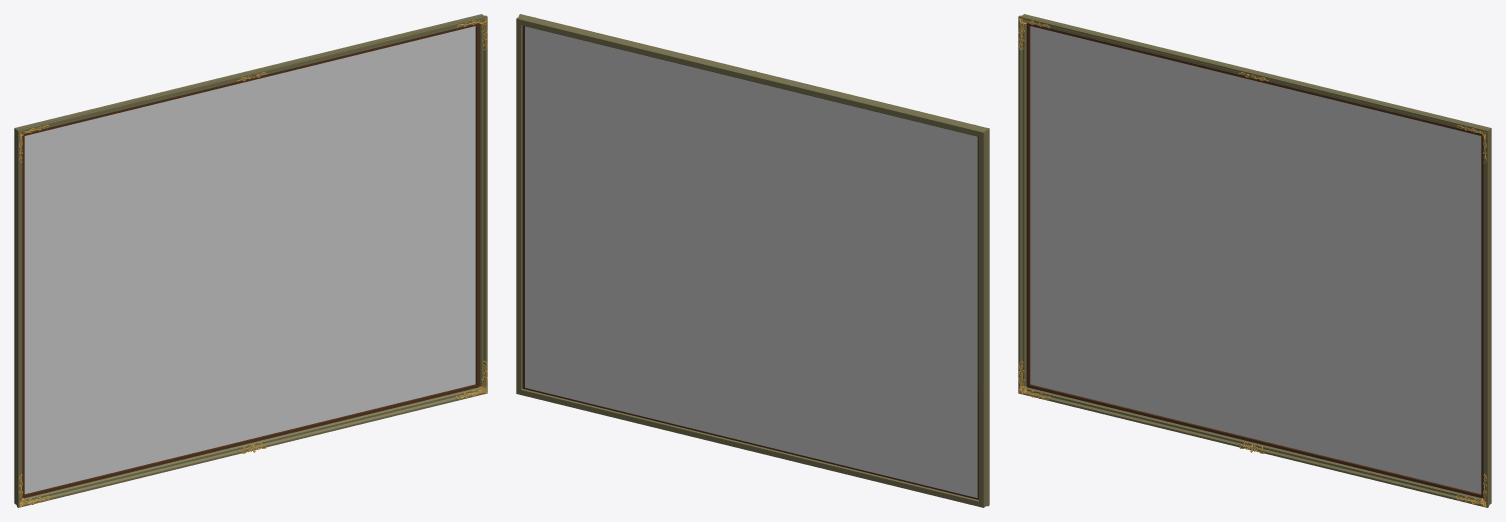
The model's file is frame001_lg.glb.
3 views of the same model, side by side, from view 1: azimuth 30°, elevation 25°; view 2: azimuth 150°, elevation 25°; view 3: azimuth 330°, elevation 25° (orthographic).
Visible parts, largest first — view 1: canvas_平面, frame_Cube.003, frame_inner_Cube.001, moyou001_Lines.001; view 2: canvas_平面, frame_Cube.003, frame_inner_Cube.001; view 3: canvas_平面, frame_Cube.003, frame_inner_Cube.001, moyou001_Lines.001.
Boxes of the visible parts, x1=… form: canvas_平面: x1=24, y1=26, x2=475, y2=493; frame_Cube.003: x1=14, y1=14, x2=487, y2=507; frame_inner_Cube.001: x1=22, y1=23, x2=479, y2=498; moyou001_Lines.001: x1=19, y1=18, x2=487, y2=507; canvas_平面: x1=525, y1=26, x2=977, y2=497; frame_Cube.003: x1=516, y1=14, x2=989, y2=507; frame_inner_Cube.001: x1=522, y1=25, x2=978, y2=499; canvas_平面: x1=1030, y1=26, x2=1481, y2=493; frame_Cube.003: x1=1018, y1=14, x2=1491, y2=507; frame_inner_Cube.001: x1=1026, y1=23, x2=1483, y2=498; moyou001_Lines.001: x1=1018, y1=18, x2=1486, y2=506.
Bounding box in the file's own units: 72.55 × 55.79 × 1.84.
